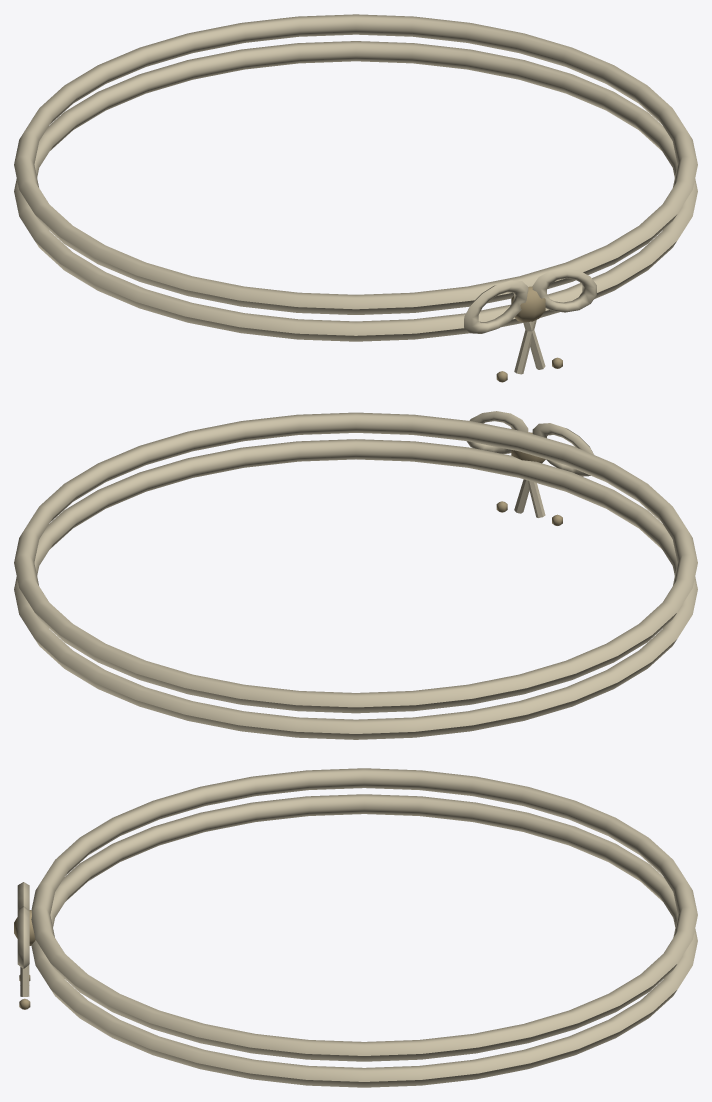
Rendered from cork_twine.glb.
3 views of the same model, one above another, from view 1: azimuth 30°, elevation 25°; view 2: azimuth 150°, elevation 25°; view 3: azimuth 270°, elevation 25° (orthographic). The views are drawn at different scales.
Parts seen in each view (by area): view 1: body; view 2: body; view 3: body.
Part boxes in pixels (x1,y1,x2,y2): body: (14,14,697,382); body: (14,411,697,739); body: (14,768,697,1087).
Bounding box in the file's own units: 10.72 × 1.74 × 10.98.
